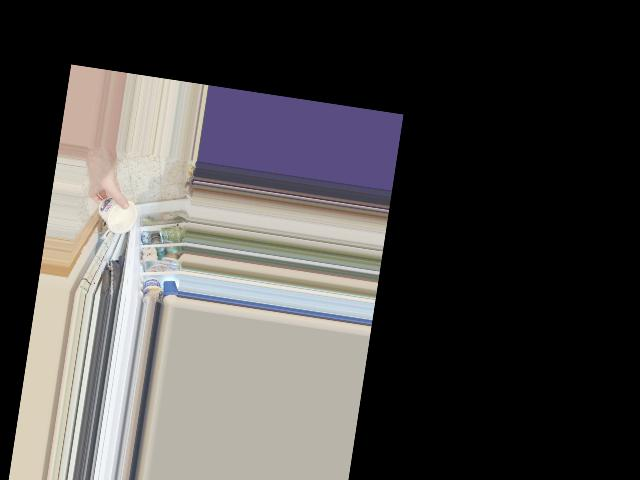cotage: (93, 193, 137, 235)
